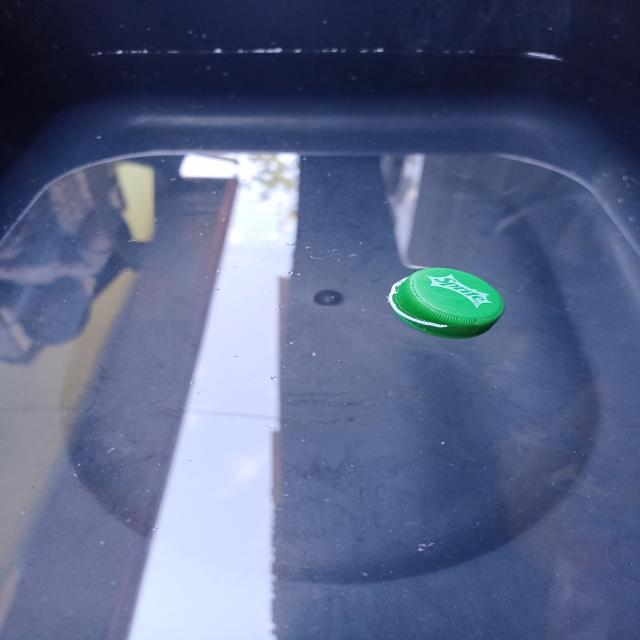Bottle Lid: (376, 248, 522, 354)
